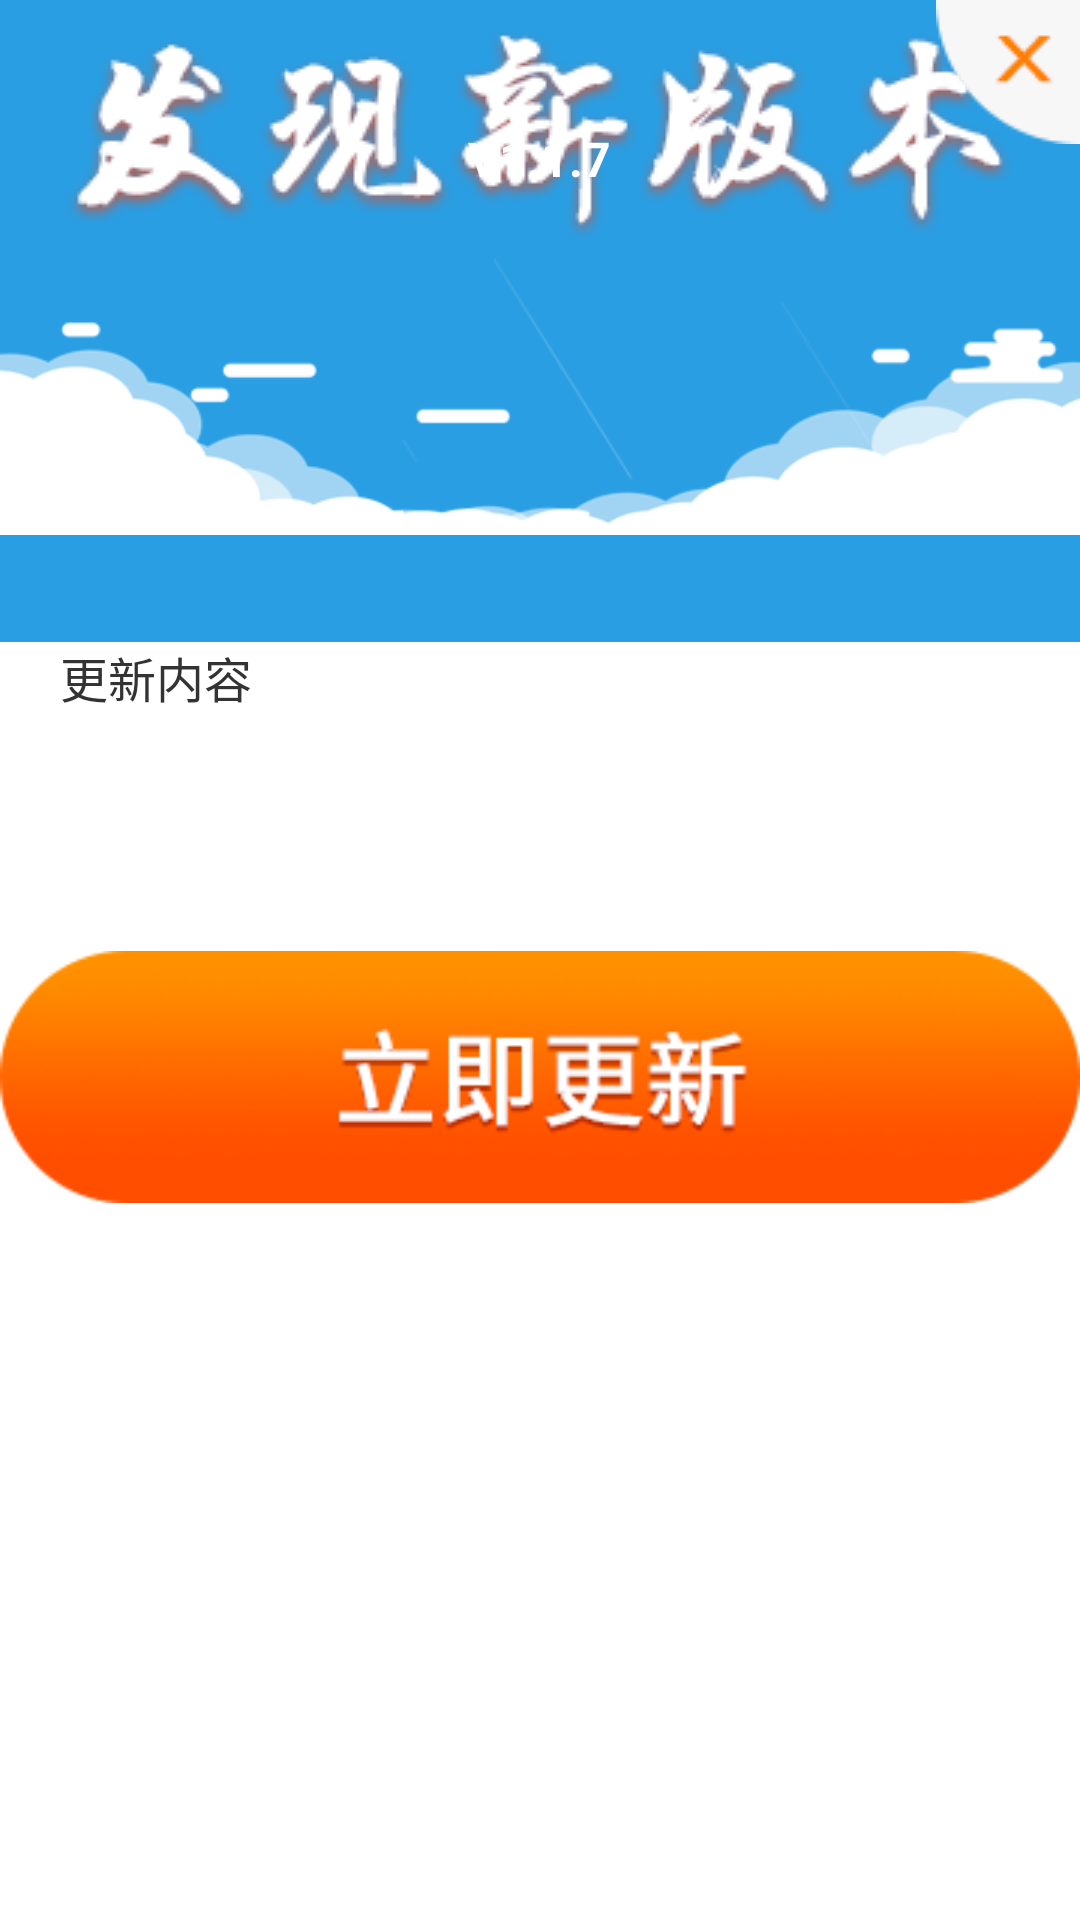

Icons on this 1080w x 1920h Android screen, each with the point to tap as (x=x, y=y):
update close: (x=1008, y=72)
